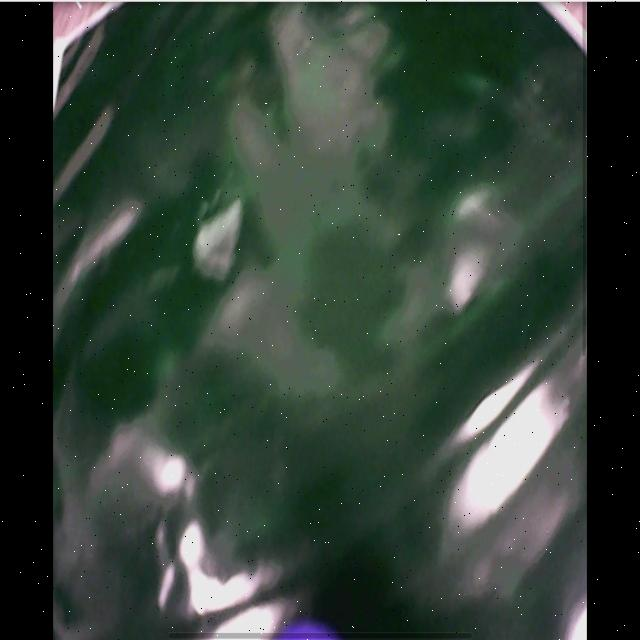ball: (276, 624, 334, 640)
